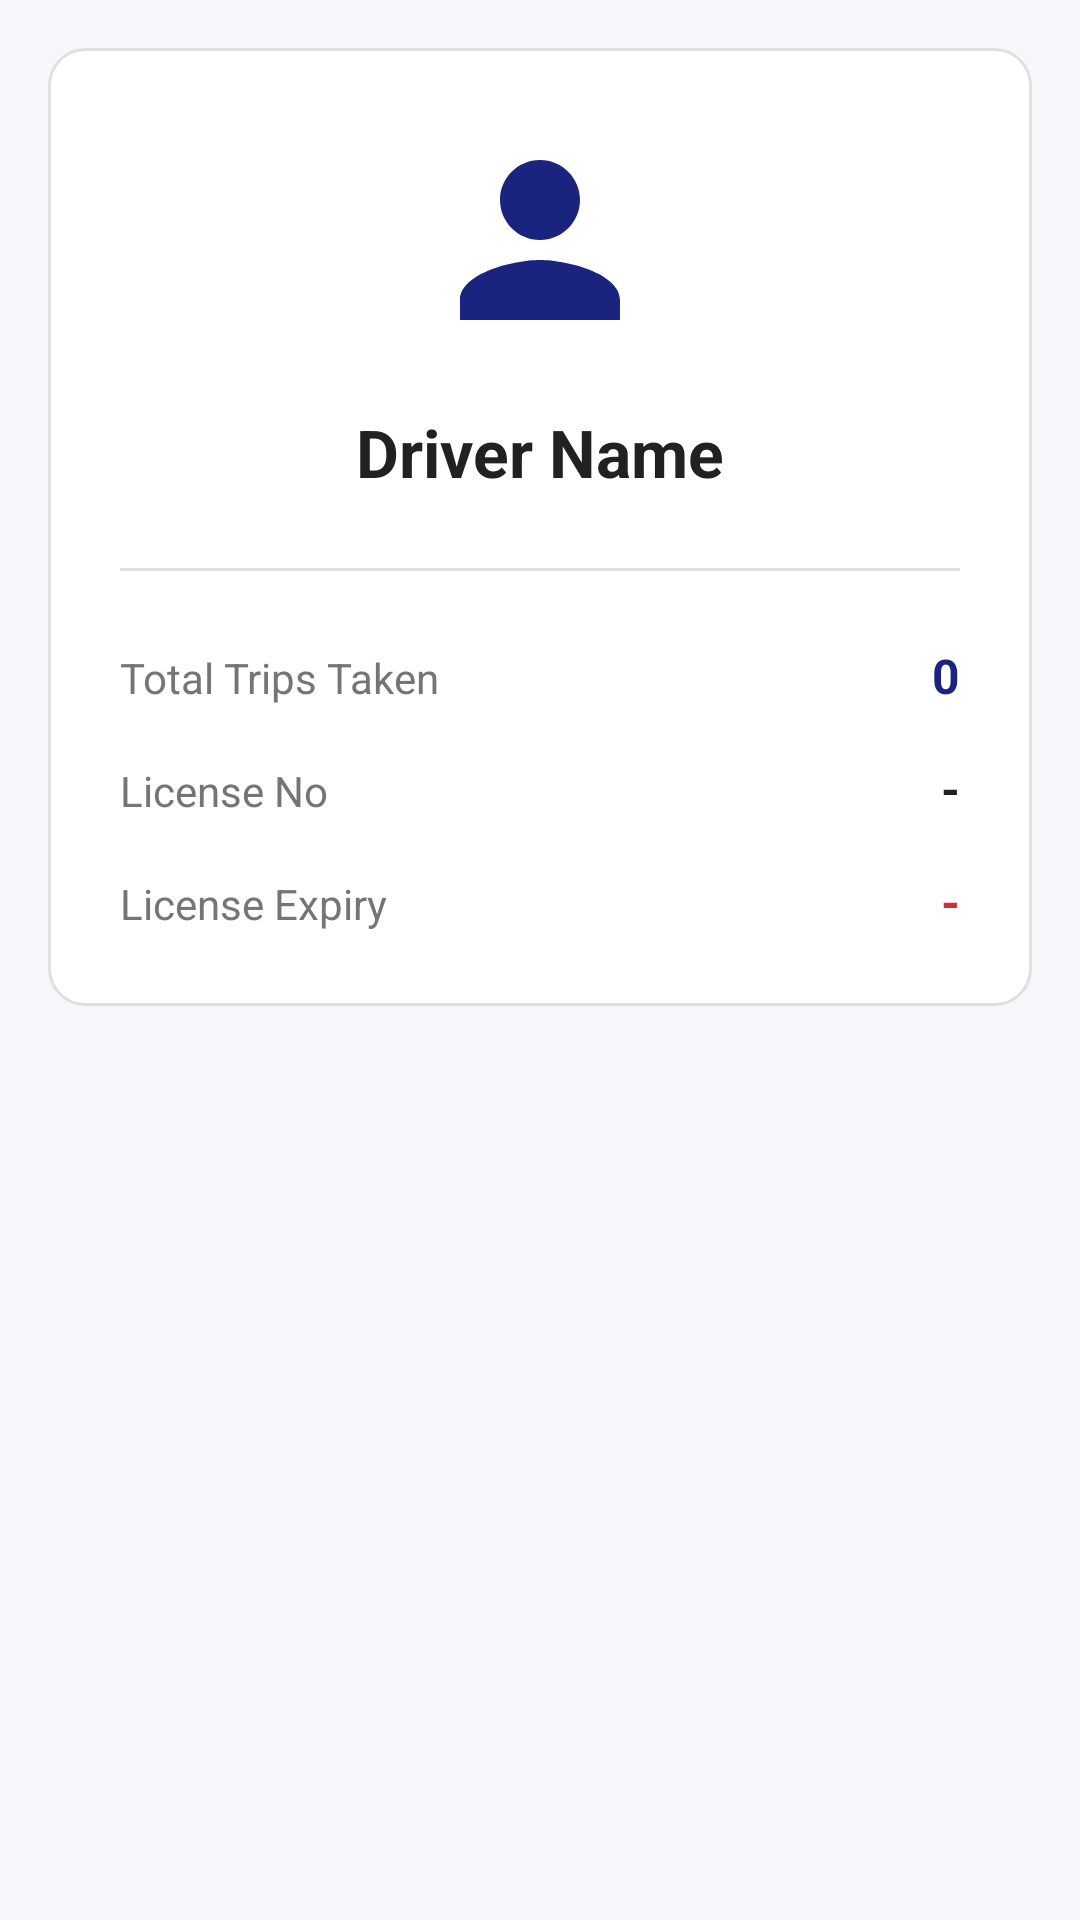

Icons on this 1080×1920 Android screen, each with the point to tap as (x,y):
profile: (540,240)
